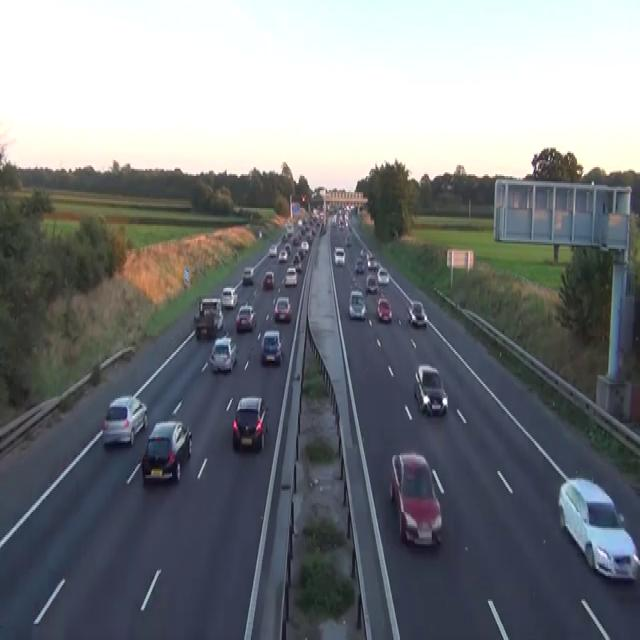Car: (557, 476, 639, 582), (390, 452, 442, 546), (141, 419, 192, 484), (102, 395, 148, 446), (232, 394, 267, 452), (413, 363, 448, 416), (208, 336, 237, 373), (260, 329, 282, 364), (348, 290, 367, 320), (235, 304, 256, 331), (407, 301, 427, 327), (273, 297, 292, 322), (377, 297, 392, 322), (221, 286, 237, 308), (284, 267, 297, 286), (365, 274, 378, 293), (333, 245, 345, 265), (262, 270, 274, 290), (377, 266, 389, 284), (242, 266, 253, 284), (292, 254, 301, 272), (354, 258, 364, 274), (367, 258, 379, 270), (360, 247, 373, 258), (277, 249, 287, 261), (285, 222, 293, 235), (269, 244, 277, 256), (300, 240, 308, 252), (320, 222, 326, 235), (312, 208, 319, 219), (285, 242, 291, 254), (292, 234, 300, 243), (359, 247, 365, 258), (345, 235, 351, 245), (338, 220, 344, 230), (331, 215, 336, 226), (258, 228, 262, 238), (300, 194, 305, 202), (297, 218, 302, 226)
Truck: (193, 297, 223, 339)
